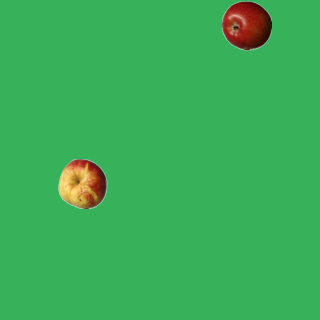Apple Braeburn: (221, 0, 271, 50)
Apple Red Yellow 1: (57, 158, 107, 208)
